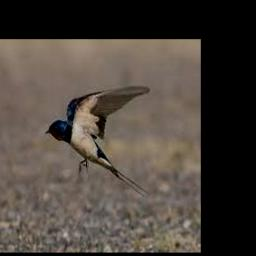Swallow: (45, 85, 150, 196)
